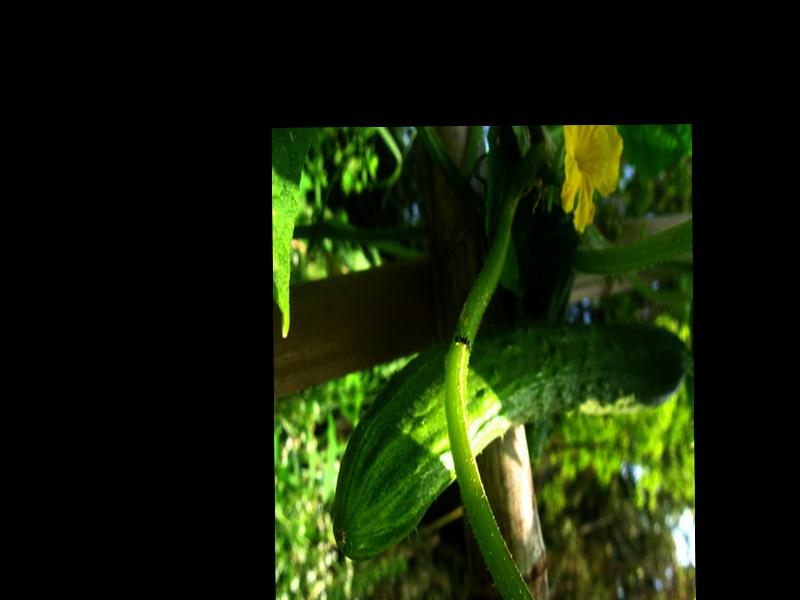Cucumber: (330, 320, 692, 558)
